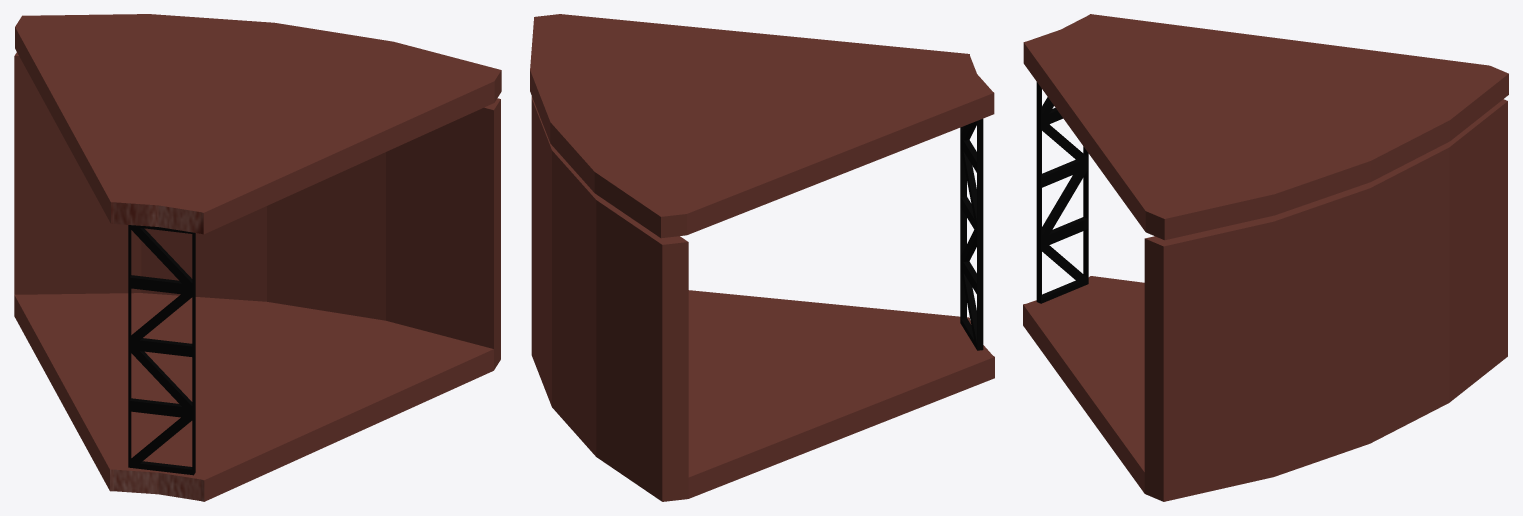
The model's file is pieSlice.fbx.
3 views of the same model, side by side, from view 1: azimuth 30°, elevation 25°; view 2: azimuth 150°, elevation 25°; view 3: azimuth 270°, elevation 25° (orthographic).
Parts seen in each view (by area): view 1: Circle.005; view 2: Circle.005; view 3: Circle.005.
Part boxes in pixels (x1=…): Circle.005: x1=14, y1=14, x2=501, y2=501; Circle.005: x1=530, y1=14, x2=994, y2=501; Circle.005: x1=1023, y1=14, x2=1508, y2=501.
Size of the model in its own units: 528 by 340 by 529.
2 materials, 1 textured.
